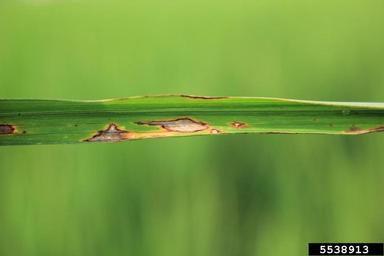Busuk Leher: (136, 115, 208, 133), (76, 123, 130, 140), (342, 125, 383, 136), (183, 92, 228, 102), (226, 119, 252, 130)
